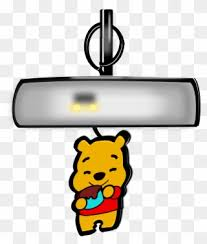Winnie: (68, 134, 129, 218)
